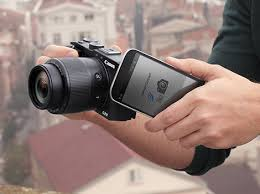camera: (30, 39, 136, 121)
